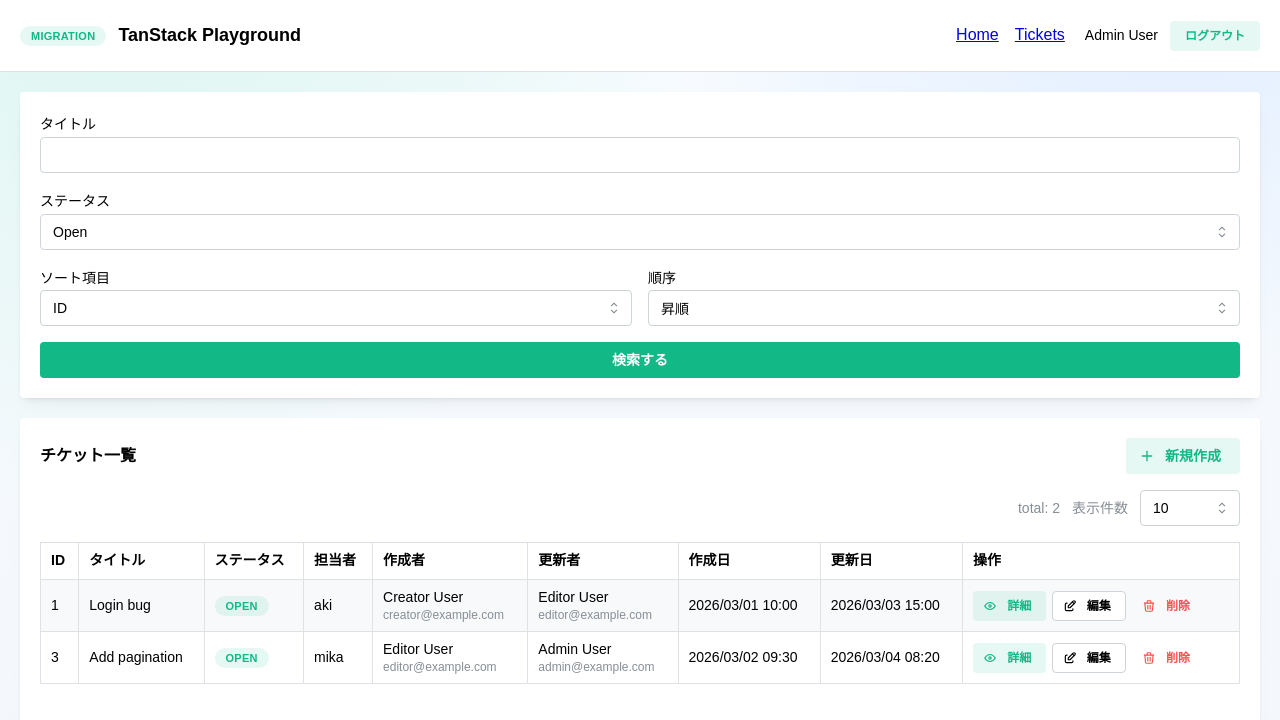
ticket CRUD routes › keeps unsaved search input when opening the delete modal
Expected: the text "Login bug" is shown, [79, 580, 204, 632]
Step 1. Type "draft filter" into the field labelled "タイトル" → [640, 155], box [40, 137, 1240, 173]
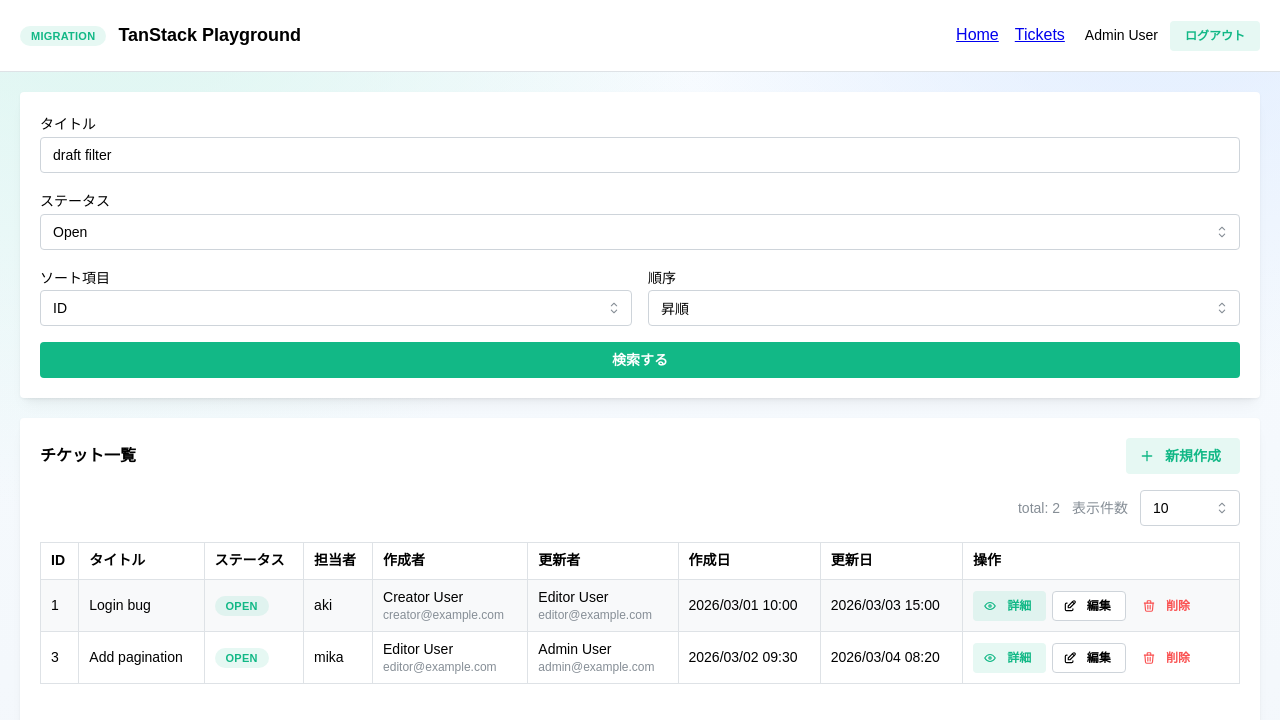
Step 2. Click the button "削除" in the row of "Login bug" → [1168, 606], box [1132, 591, 1205, 621]
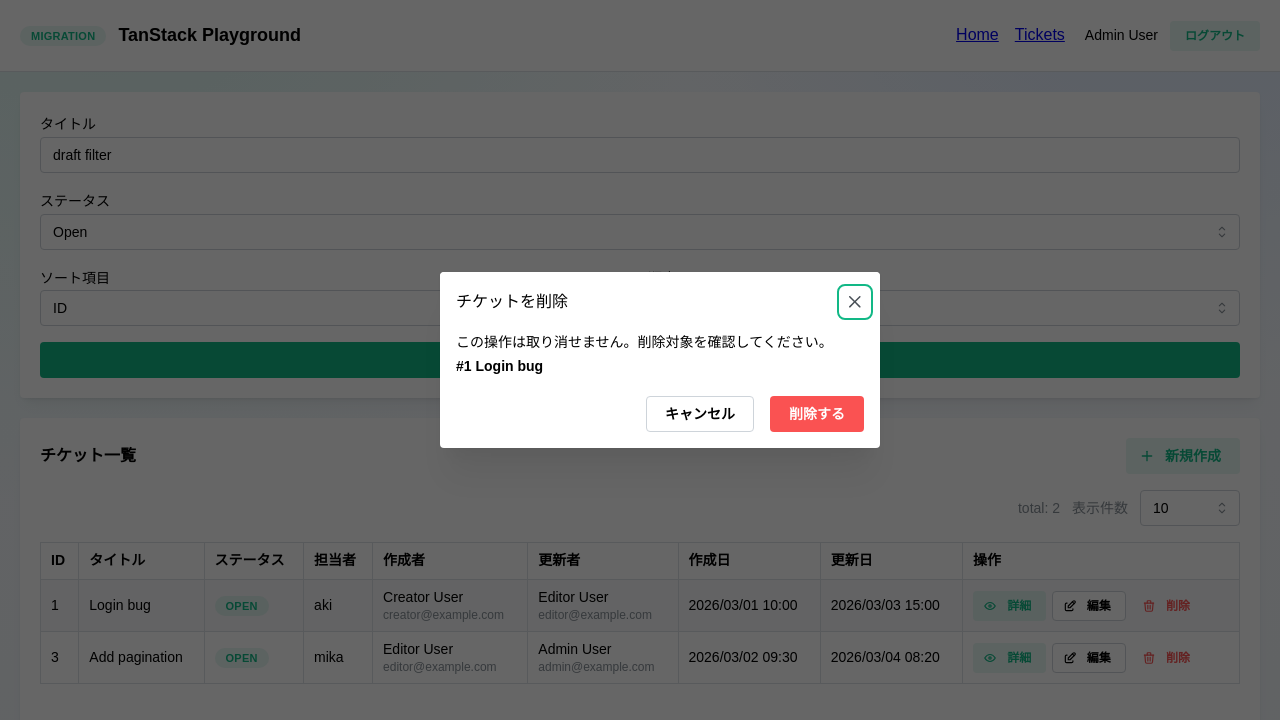
Now the text "この操作は取り消せません。削除対象を確認してください。" is shown, box [456, 332, 864, 352]
